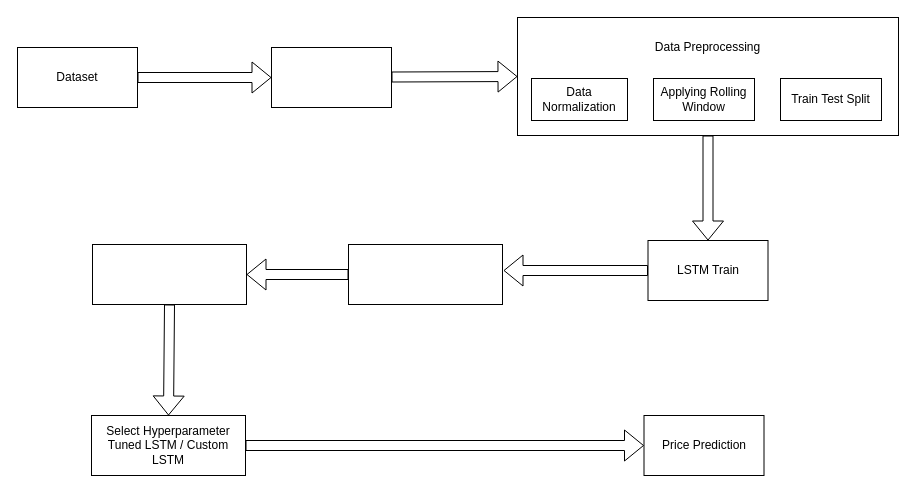
Some shapes in this 916 by 493 pixel diagram are drawn without their labels. Here are the shapes that lost their labels. From the top down, the box of each, then its label:
(270, 46, 392, 108): Exploratory Data Analysis
(92, 244, 246, 304): Interpret the Accuracy
(348, 244, 502, 304): Calculate Error Metrices
